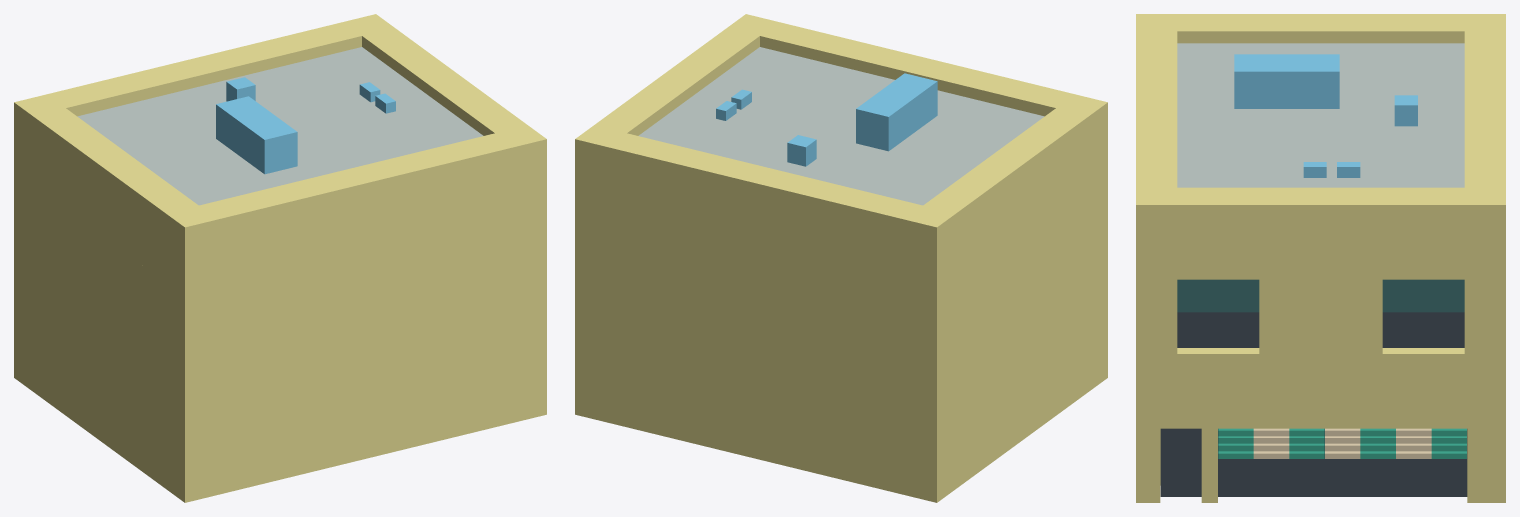
Rendered from Building3_biggerBlock.fbx.
3 renders of one model, left to right at view 1: azimuth 30°, elevation 25°; view 2: azimuth 150°, elevation 25°; view 3: azimuth 270°, elevation 25°, orthographic. The views are drawn at different scales.
Parts seen in each view (by area): view 1: pCube4806, pCube4720, pCube4812, pCube4749, pCube4703, pCube4715, pCube4220, pCube4512, pCube4319, pCube4423, pCube4623, pCube4112 (+50 smaller); view 2: pCube4791, pCube4708, pCube4663, pCube4727, pCube4730, pCube4438, pCube4510, pCube4047, pCube4323, pCube4537, pCube4197, pCube4327 (+50 smaller); view 3: pCube4806, pCube4830, pCube4805, pCube4747, pCube4377, pCube4311, pCube4434, pCube4421, pCube4619, pCube4584, pCube4483, pCube4114 (+38 smaller).
Part boxes in pixels (box(x1,y1,x2,y2)): pCube4806: box(443, 111, 546, 223); pCube4720: box(377, 138, 481, 239); pCube4812: box(312, 154, 415, 255); pCube4749: box(246, 170, 349, 271); pCube4703: box(191, 186, 283, 288); pCube4715: box(147, 191, 217, 296); pCube4220: box(147, 406, 217, 502); pCube4512: box(147, 269, 217, 364); pCube4319: box(147, 337, 217, 433); pCube4423: box(415, 293, 481, 377); pCube4623: box(349, 240, 415, 324); pCube4112: box(349, 378, 415, 462); pCube4791: box(640, 141, 724, 239); pCube4708: box(706, 157, 790, 255); pCube4663: box(772, 173, 856, 271); pCube4727: box(838, 189, 922, 288); pCube4730: box(575, 125, 659, 223); pCube4438: box(640, 293, 706, 377); pCube4510: box(706, 240, 772, 324); pCube4047: box(706, 378, 772, 462); pCube4323: box(772, 325, 838, 409); pCube4537: box(640, 224, 706, 308); pCube4197: box(640, 362, 706, 446); pCube4327: box(706, 309, 772, 393); pCube4806: box(1136, 170, 1218, 279); pCube4830: box(1218, 182, 1300, 279); pCube4805: box(1300, 182, 1382, 279); pCube4747: box(1382, 182, 1464, 279); pCube4377: box(1382, 348, 1464, 428); pCube4311: box(1136, 348, 1218, 428); pCube4434: box(1218, 348, 1300, 428); pCube4421: box(1300, 354, 1382, 428); pCube4619: box(1300, 279, 1382, 353); pCube4584: box(1136, 279, 1218, 353); pCube4483: box(1218, 279, 1300, 353); pCube4114: box(1136, 428, 1217, 502).
Size of the model in its own units: 22.55 by 17.11 by 17.72.
